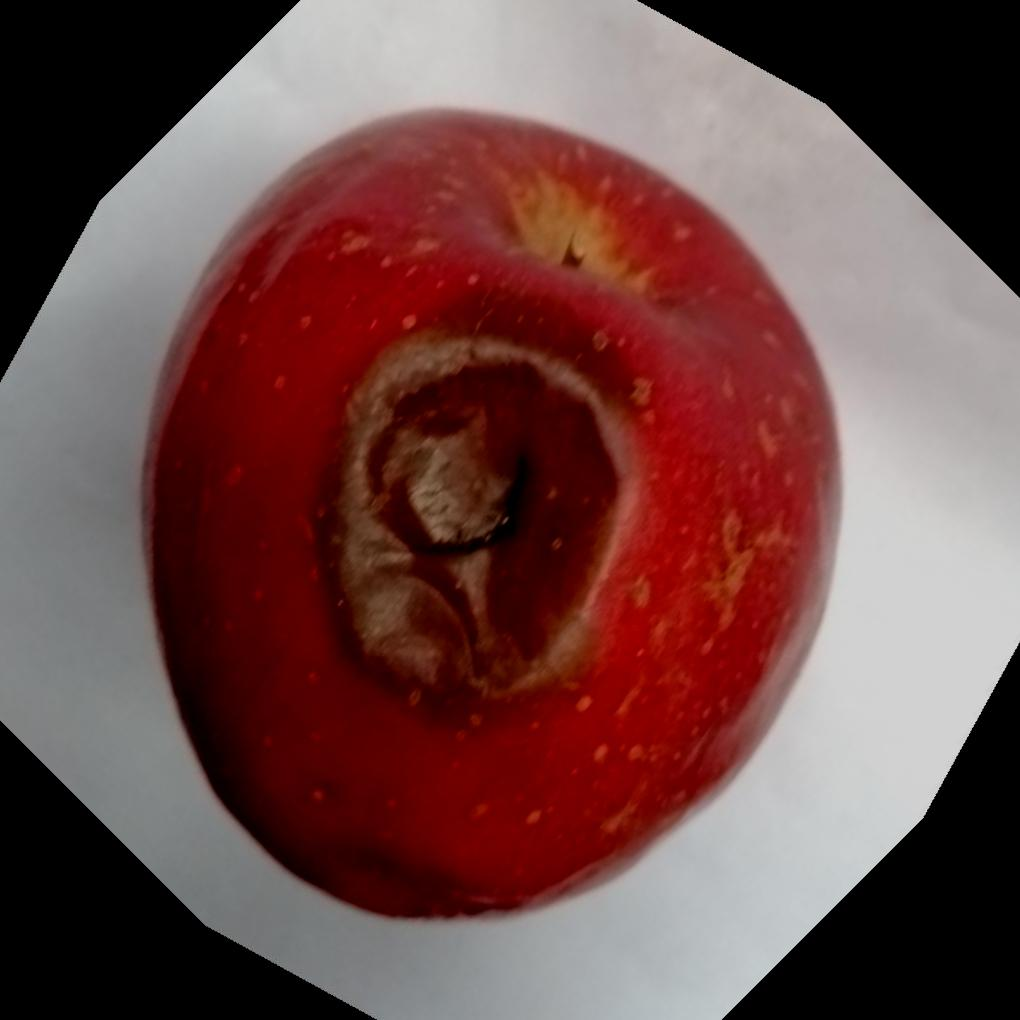FreshOrange: (138, 102, 843, 921)
